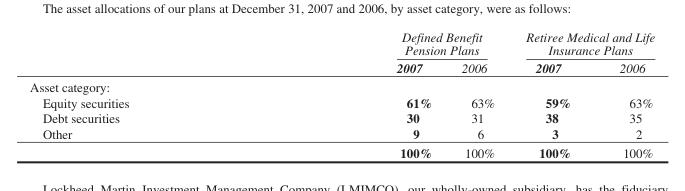table: (29, 29, 654, 159)
table column: (29, 29, 262, 159), (262, 29, 446, 159), (509, 29, 594, 159), (446, 29, 509, 159), (594, 29, 654, 159)
table column header: (29, 29, 654, 77)
table projected row header: (29, 77, 654, 94)
table row: (29, 29, 654, 58), (29, 58, 654, 77), (29, 77, 654, 94), (29, 125, 654, 142), (29, 142, 654, 159), (29, 109, 654, 125), (29, 94, 654, 109)
table spanning cell: (262, 29, 509, 58), (509, 29, 654, 58)
